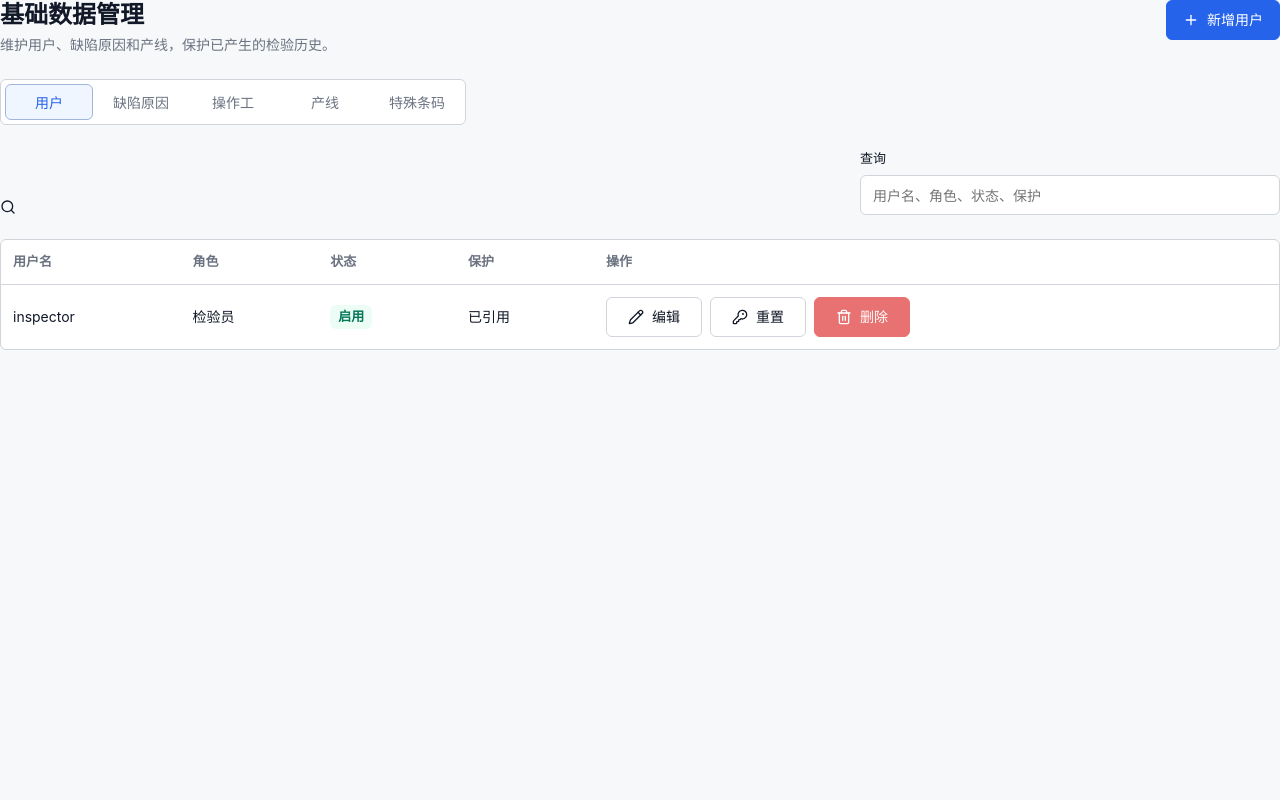
Scenario: MasterDataPage › edits a user role and refreshes user data
Click the button with aria-label "编辑用户 inspector". click: [654, 317]
box: [606, 297, 702, 337]
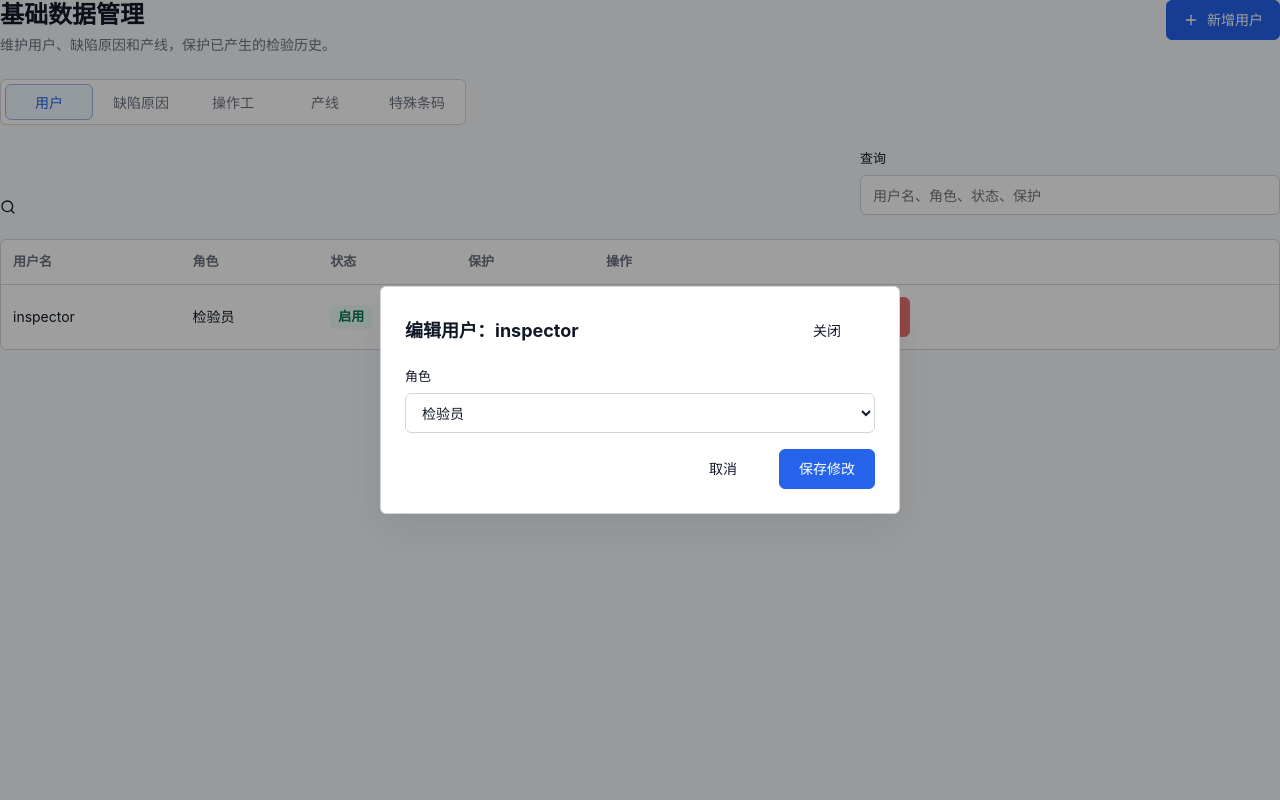
Select "查询用户" in the dropdown labelled "角色". click: [640, 413]
box: [405, 393, 875, 433]
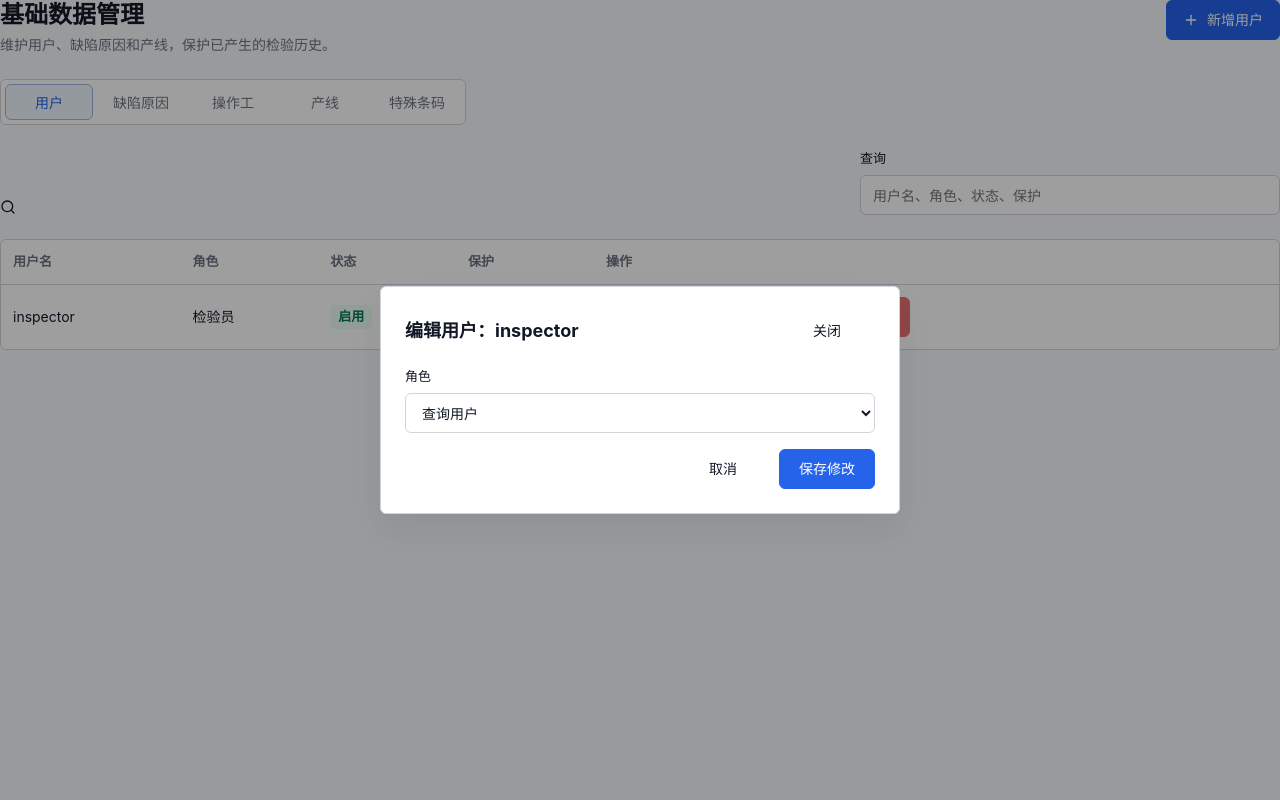
Click the button "保存修改". click: [827, 469]
box: [779, 449, 875, 489]
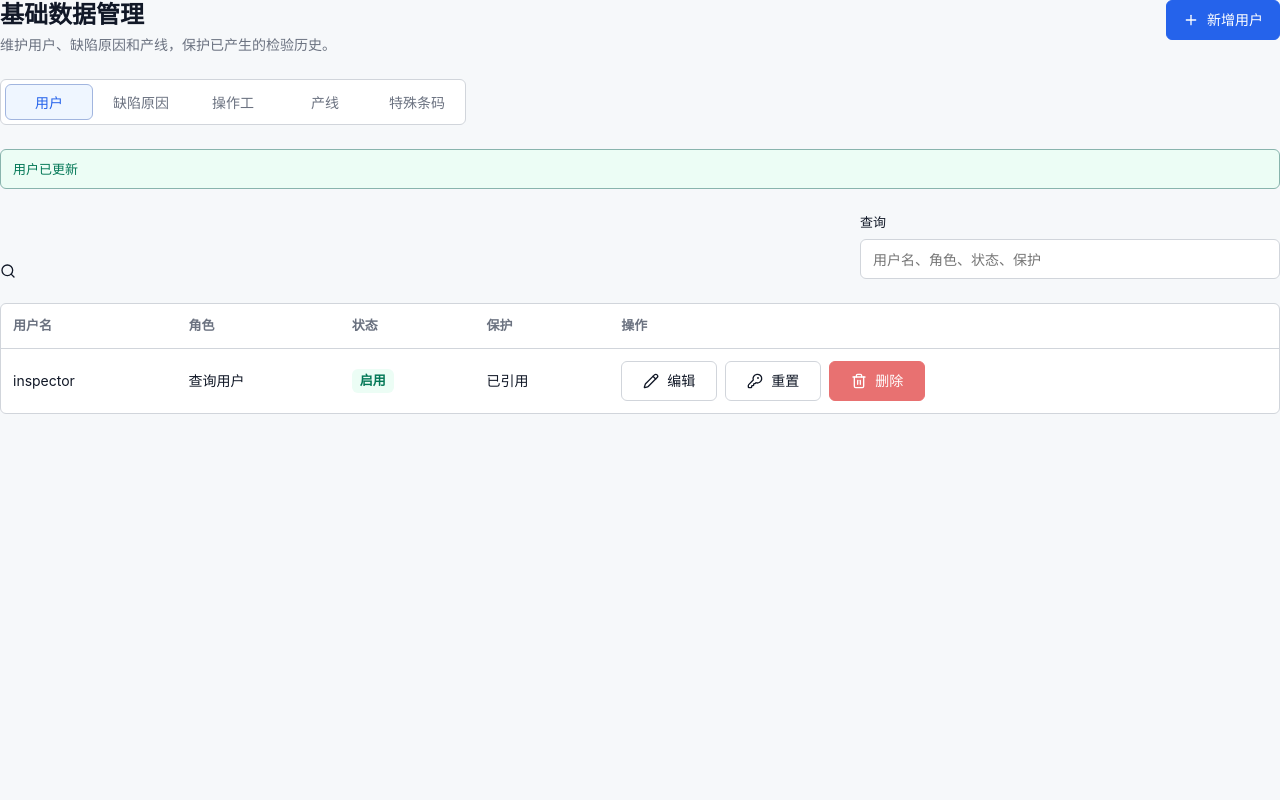
Check: the text "查询用户" is shown, box [176, 348, 340, 413]
